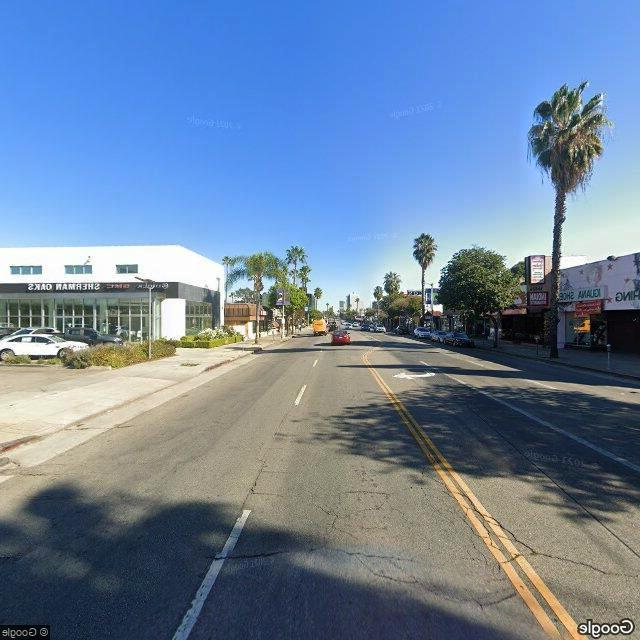crack: (307, 466, 532, 592)
